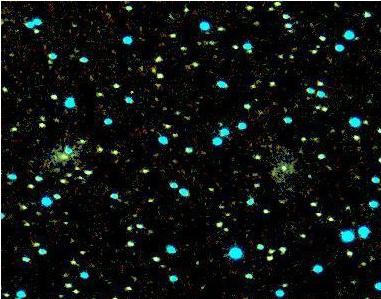star: (48, 141, 78, 171)
